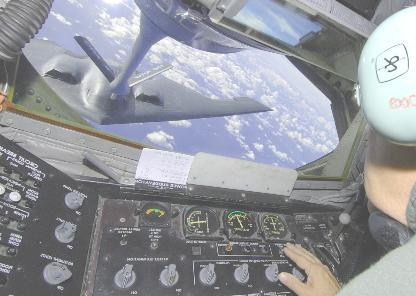B1: (23, 37, 276, 125)
